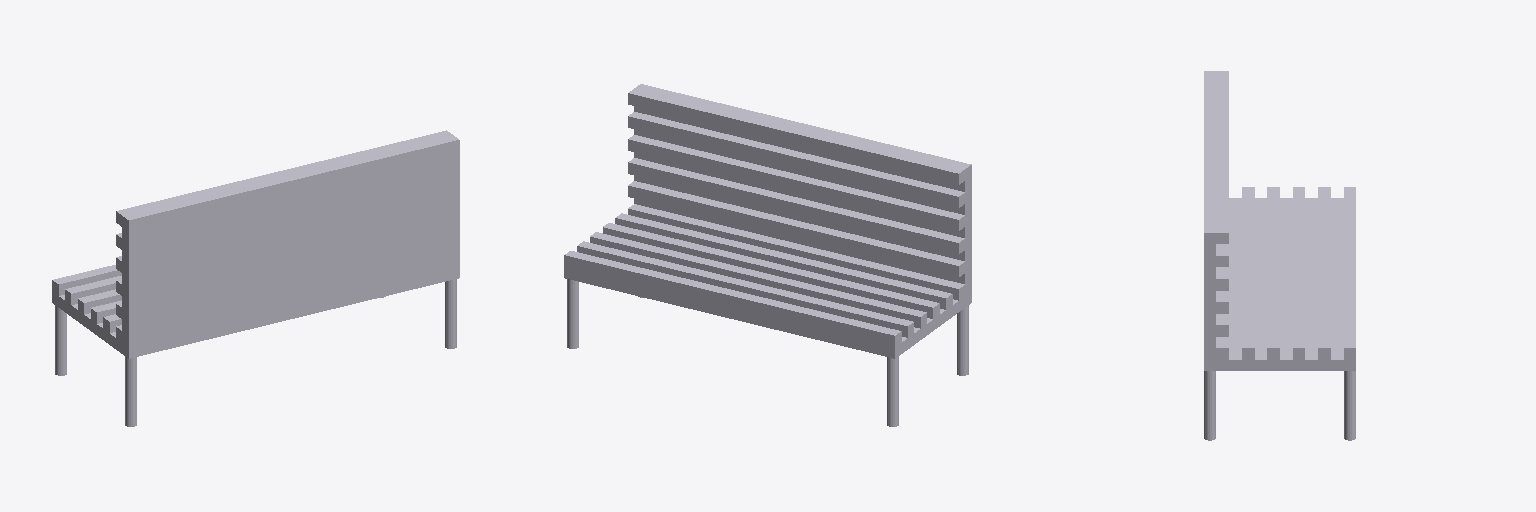
Rendered from bench.model.obj.
The picture shows the model from 3 angles: view 1: azimuth 30°, elevation 25°; view 2: azimuth 150°, elevation 25°; view 3: azimuth 270°, elevation 25°; orthographic projection.
Size of the model in its own units: 3 by 1.8 by 1.2.